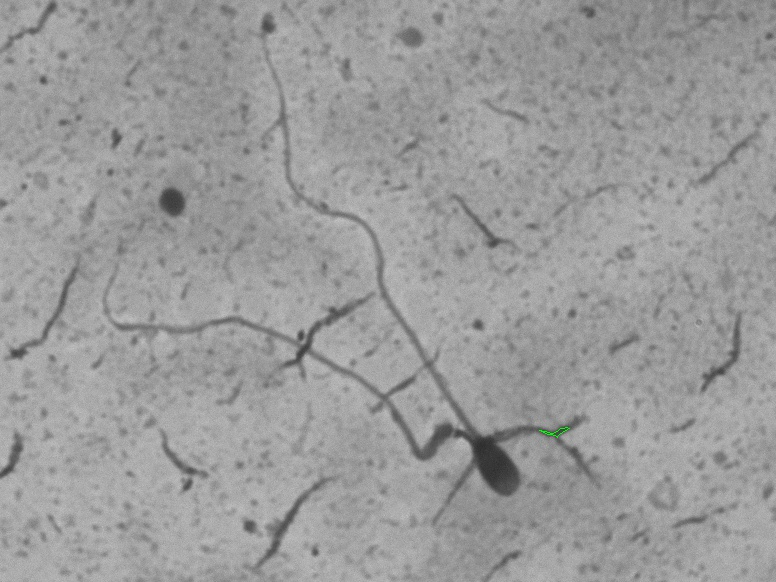Normal: (244, 28, 537, 508)
